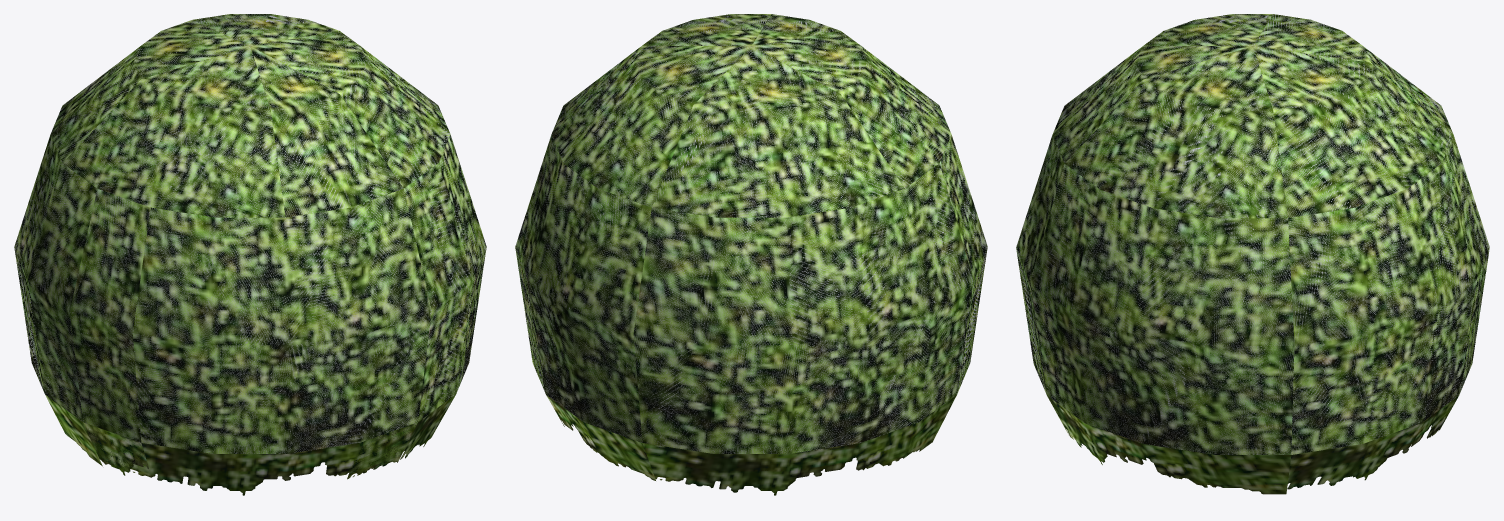
The model's file is Cespuglio.fbx.
3 renders of one model, left to right at view 1: azimuth 30°, elevation 25°; view 2: azimuth 150°, elevation 25°; view 3: azimuth 270°, elevation 25°, orthographic.
Visible parts, largest first — view 1: group_0, group_0.001; view 2: group_0, group_0.001; view 3: group_0, group_0.001.
Part boxes in pixels (box(x1,y1,x2,y2)): group_0: box(14, 14, 486, 453); group_0.001: box(45, 394, 455, 495); group_0: box(515, 14, 987, 453); group_0.001: box(546, 395, 956, 495); group_0: box(1016, 14, 1489, 454); group_0.001: box(1047, 396, 1458, 494).
Size of the model in its own units: 40 by 40.61 by 36.45.
